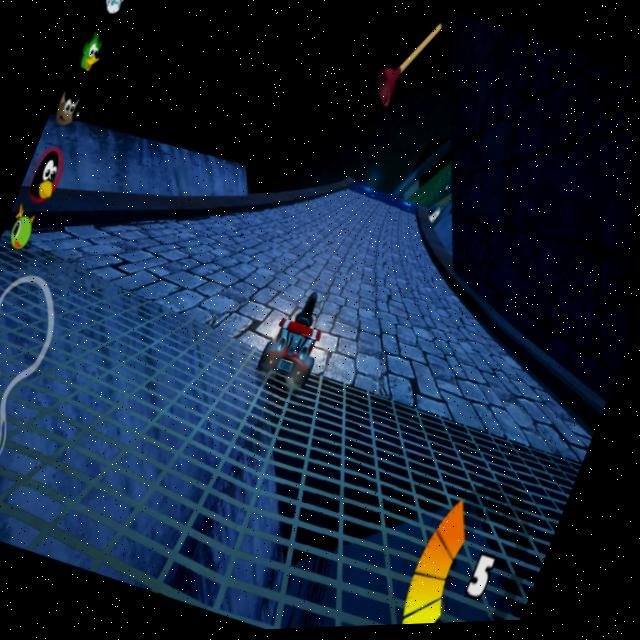player_kart: (248, 280, 344, 405)
track: (52, 214, 296, 569), (242, 201, 439, 593), (294, 192, 377, 273)
